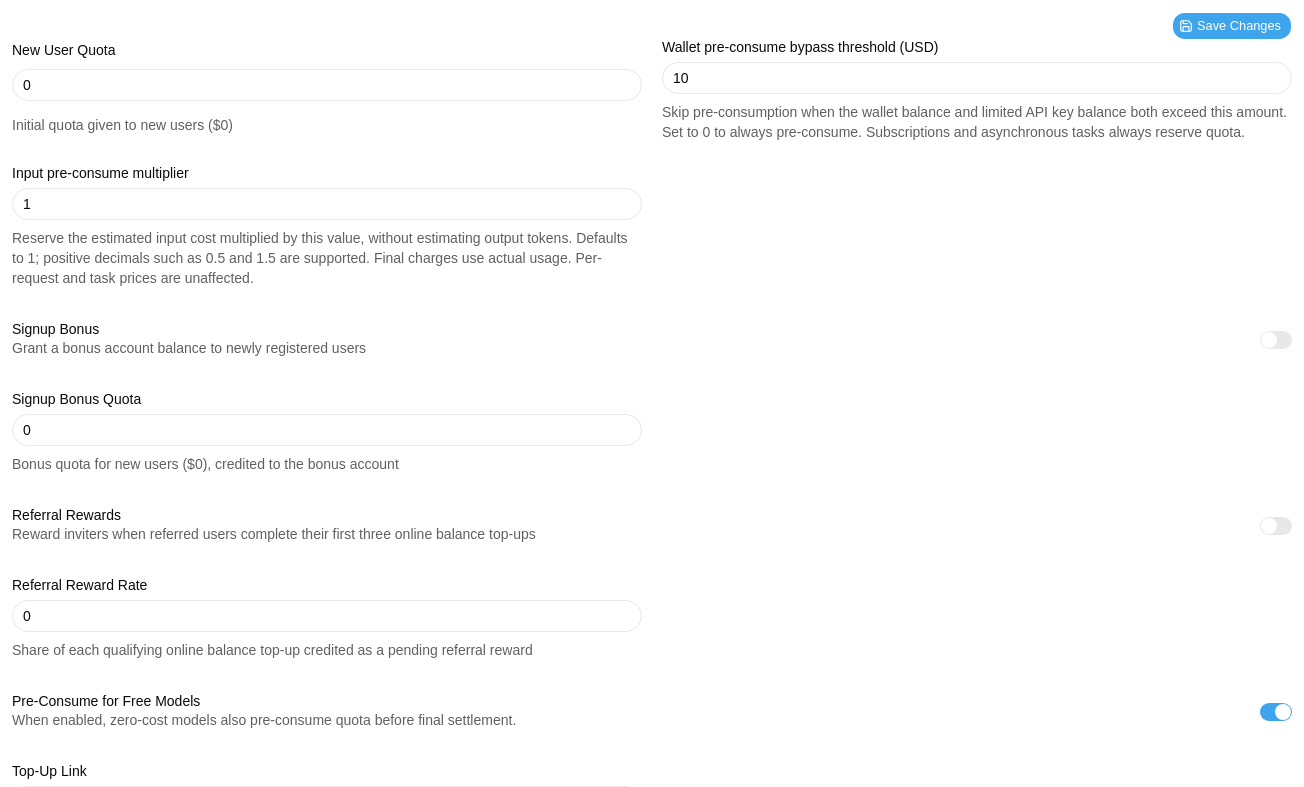
invalid multiplier "" shows a field error and prevents saving
Clear the number field labelled "Input pre-consume multiplier" at (327, 204), box [12,188,642,220]
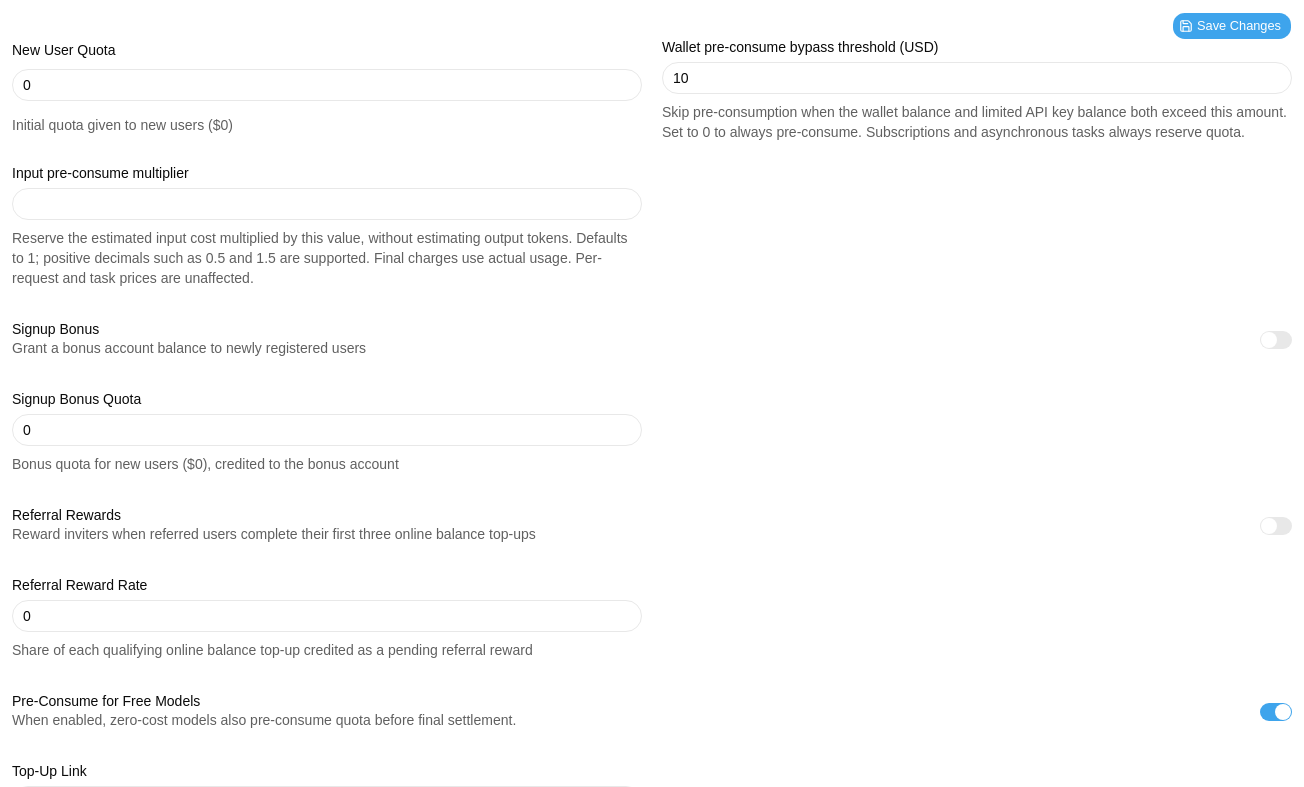
Click the button "Save Changes" at (1232, 26), box [1172,12,1292,40]
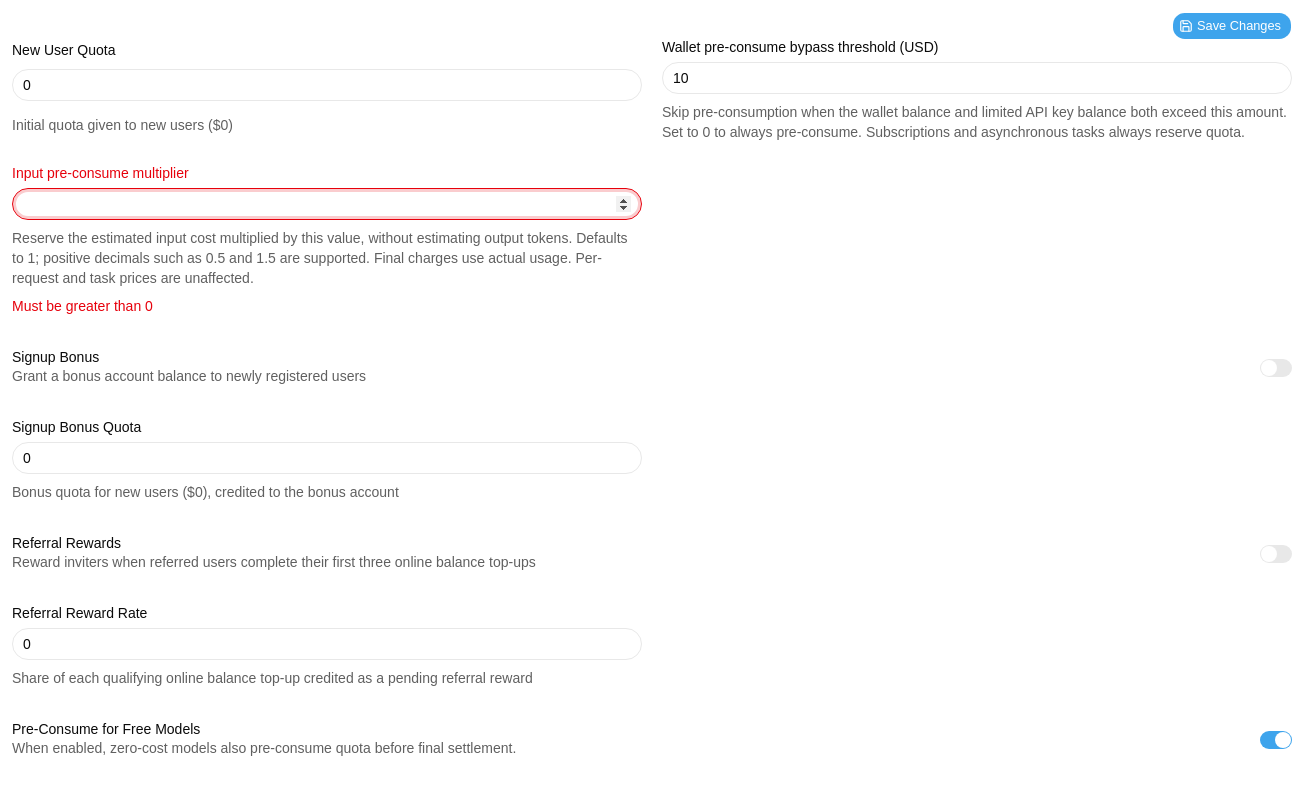
Check: the text "Must be greater than 0" is shown, box [12,298,153,314]
